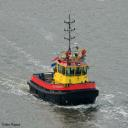tugboat: (27, 12, 101, 110)
